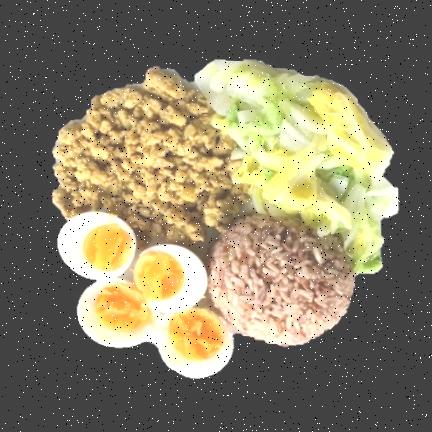chicken: (52, 67, 246, 245)
egg: (58, 211, 234, 377)
rice: (209, 213, 354, 344)
salad: (196, 60, 398, 273)
